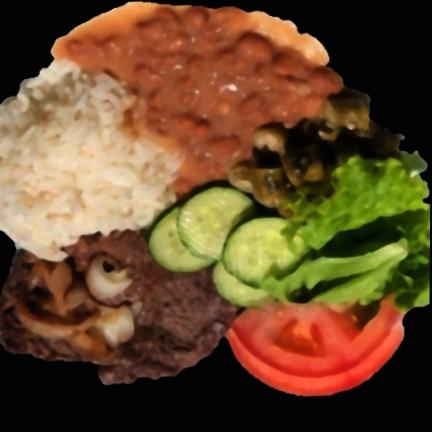beans: (64, 5, 342, 194)
cucumber: (150, 185, 301, 306)
green_vegetables: (228, 90, 399, 209)
meat: (0, 229, 239, 383)
rice: (0, 61, 181, 259)
salad: (263, 155, 429, 309)
tomato: (226, 299, 404, 395)
